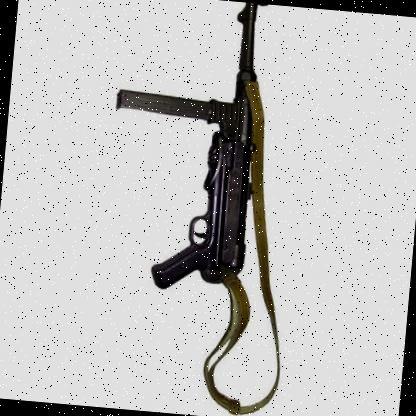rifle: (98, 0, 302, 308)
